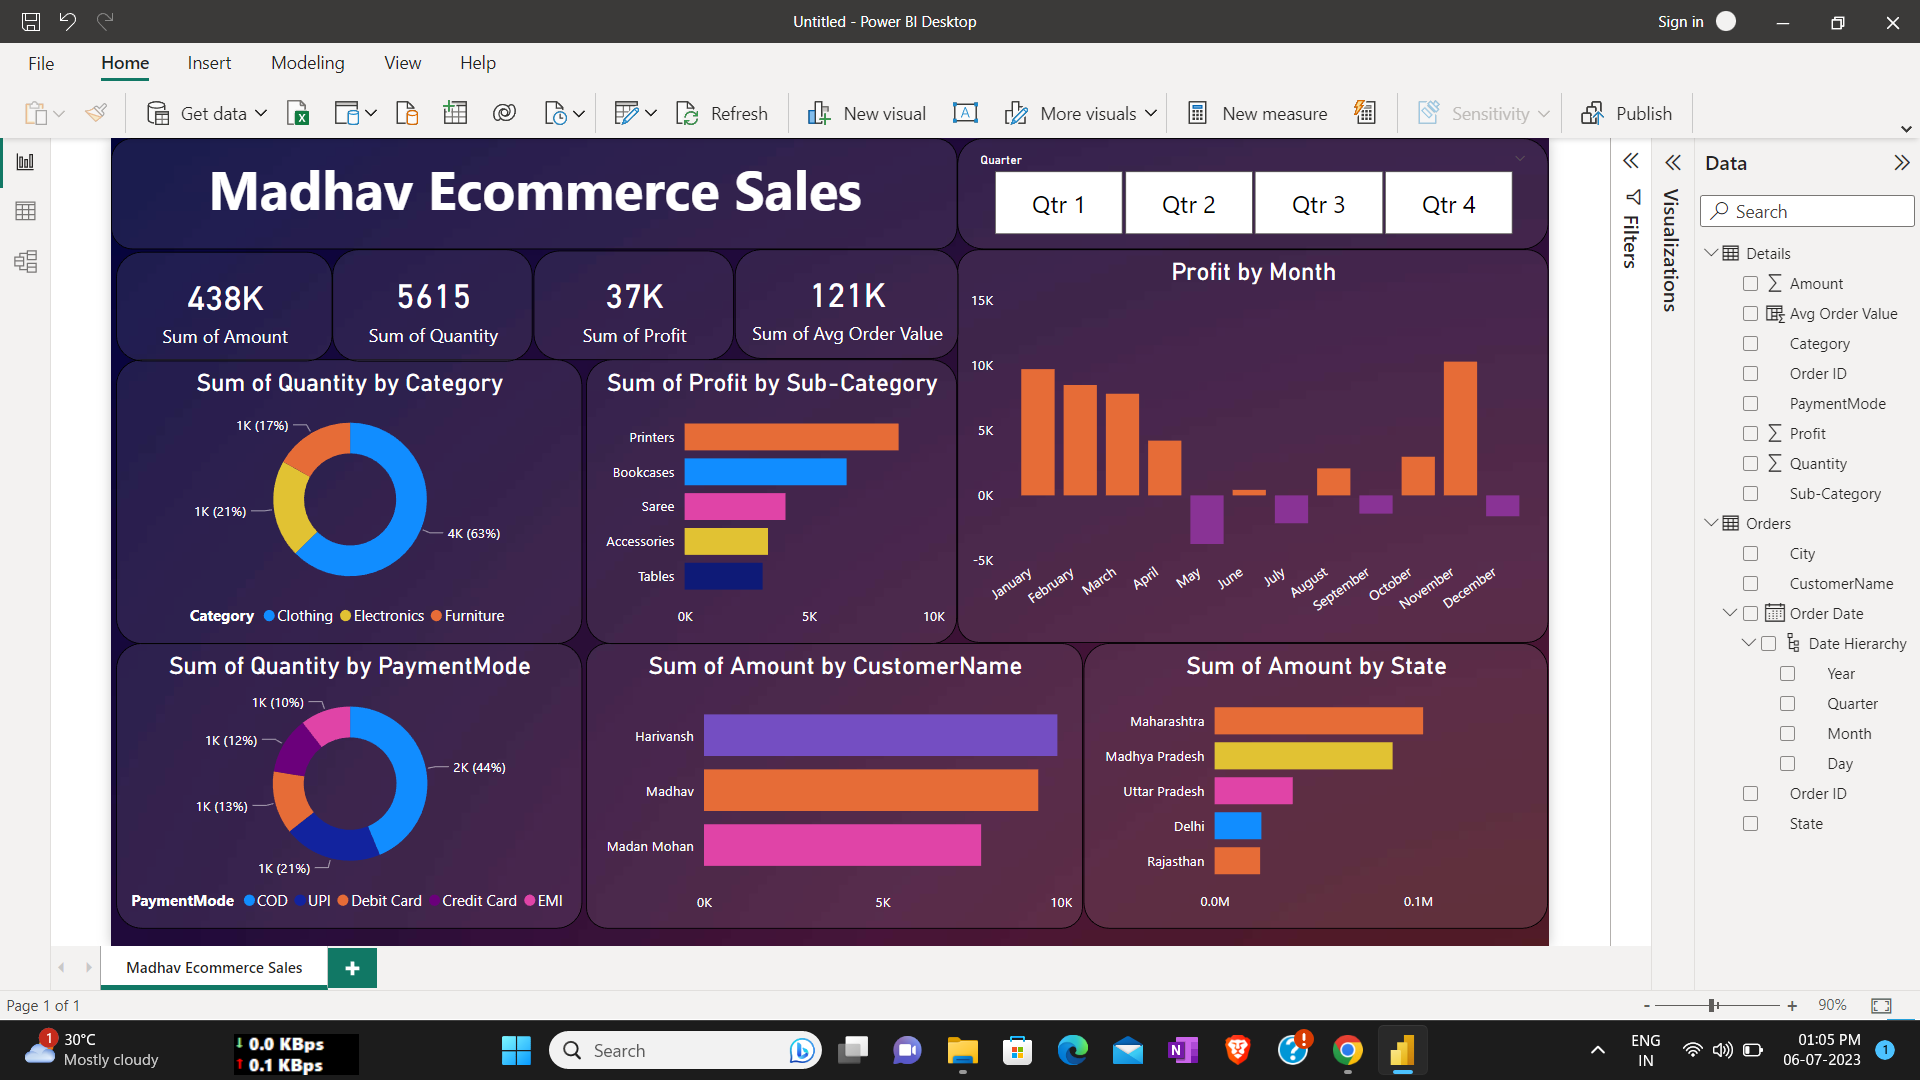

What the dashboard file says about the page in this screenshot:
{"tool":"powerbi","page":{"name":"Madhav Ecommerce Sales","canvas":[1280,720],"ordinal":0},"visuals":[{"type":"textbox","box":[0,0,753.4,99],"z":0},{"type":"columnChart","title":"Profit by Month","fields":{"Y":["Details.Profit"],"Category":["Orders.Order Date.Variation.Date Hierarchy.Month"]},"box":[753.4,99,526.4,350.5],"z":1000},{"type":"barChart","fields":{"Category":["Details.Sub-Category"],"Y":["Details.Profit"]},"box":[423.3,196.6,330.5,253.3],"z":2000},{"type":"donutChart","fields":{"Category":["Details.Category"],"Y":["Details.Quantity"]},"box":[4.8,196.6,414.9,253.3],"z":3000},{"type":"donutChart","fields":{"Category":["Details.PaymentMode"],"Y":["Details.Quantity"]},"box":[4.8,449.8,414.9,254.5],"z":4000},{"type":"card","fields":{"Values":["Details.Amount"]},"box":[5,101.2,192.5,97.5],"z":5000},{"type":"card","fields":{"Values":["Details.Quantity"]},"box":[197.5,98.8,178.8,100],"z":6000},{"type":"card","fields":{"Values":["Details.Profit"]},"box":[376.2,100,178.8,97.5],"z":7000},{"type":"card","fields":{"Values":["Details.Avg Order Value"]},"box":[554.8,98.9,199,97.7],"z":8000},{"type":"barChart","fields":{"Category":["Orders.State"],"Y":["Details.Amount"]},"box":[865.9,449.8,413.7,254.5],"z":9000},{"type":"barChart","fields":{"Y":["Details.Amount"],"Category":["Orders.CustomerName"]},"box":[423.3,449.8,442.6,254.5],"z":10000},{"type":"slicer","fields":{"Values":["Orders.Order Date.Variation.Date Hierarchy.Quarter"]},"box":[753.4,0,526.4,99],"z":11000}]}

Visuals, with their boxes on the page's 1280x720 design canvas (x1, y1, x2, y2). These are canvas units, not pixel positions in the 1920x1080 screenshot, which may show the page scaled, cropped or inside an application window:
textbox: rect(0, 0, 753, 99)
"Profit by Month" columnChart: rect(753, 99, 1280, 450)
barChart - Details.Sub-Category x Details.Profit: rect(423, 197, 754, 450)
donutChart - Details.Category x Details.Quantity: rect(5, 197, 420, 450)
donutChart - Details.PaymentMode x Details.Quantity: rect(5, 450, 420, 704)
card - Details.Amount: rect(5, 101, 198, 199)
card - Details.Quantity: rect(198, 99, 376, 199)
card - Details.Profit: rect(376, 100, 555, 198)
card - Details.Avg Order Value: rect(555, 99, 754, 197)
barChart - Orders.State x Details.Amount: rect(866, 450, 1280, 704)
barChart - Details.Amount x Orders.CustomerName: rect(423, 450, 866, 704)
slicer - Orders.Order Date.Variation.Date Hierarchy.Quarter: rect(753, 0, 1280, 99)
